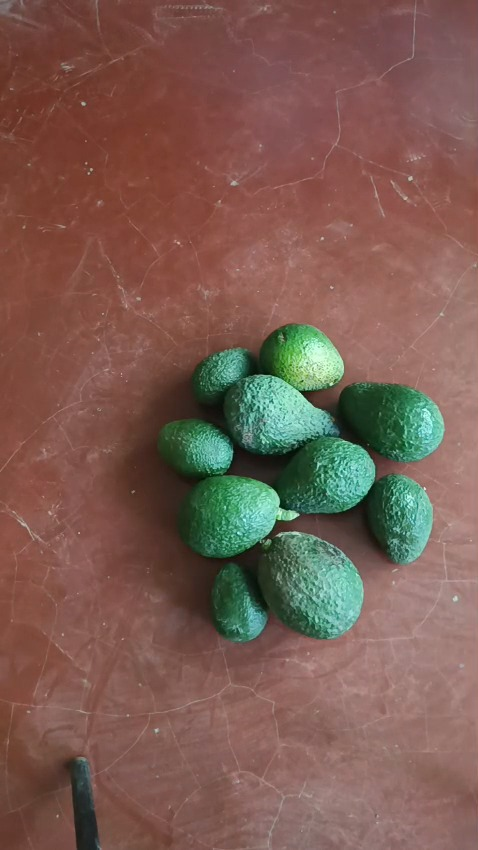Primera: (259, 532, 363, 639), (223, 375, 340, 455), (177, 475, 282, 557), (339, 381, 446, 461), (273, 436, 376, 513)
Segunda: (364, 473, 433, 563), (257, 322, 344, 391)
Tercera: (209, 561, 269, 641), (158, 418, 233, 478), (190, 346, 254, 406)
